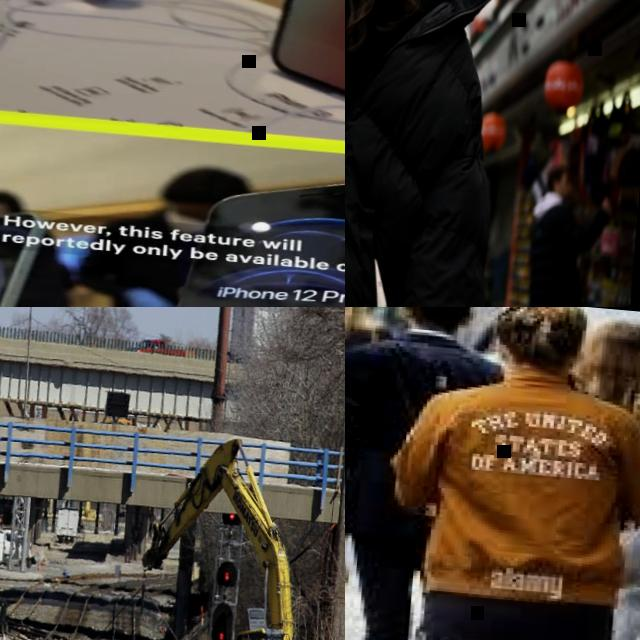Hardhat: (0, 635, 5, 640), (24, 638, 31, 640)
Mask: (169, 213, 206, 234)
NO-Hardhat: (160, 164, 256, 210), (490, 307, 576, 358), (591, 321, 640, 377), (401, 307, 477, 320), (544, 162, 565, 180), (0, 188, 19, 207)
NO-Mask: (556, 182, 574, 197)
NO-Safety Vest: (410, 374, 638, 595), (345, 0, 451, 307), (345, 332, 484, 531), (520, 206, 581, 307), (586, 386, 640, 497), (345, 322, 378, 363)
Person: (365, 307, 640, 640), (345, 0, 532, 307), (345, 307, 515, 640), (534, 317, 640, 640), (70, 152, 240, 307), (508, 158, 612, 307), (345, 307, 394, 595), (0, 184, 79, 298)
Safety Cone: (40, 544, 45, 563), (36, 554, 41, 572), (43, 554, 48, 566)
vehicle: (128, 430, 345, 640), (227, 307, 290, 365), (128, 336, 195, 359), (0, 523, 22, 571), (55, 508, 81, 544)
